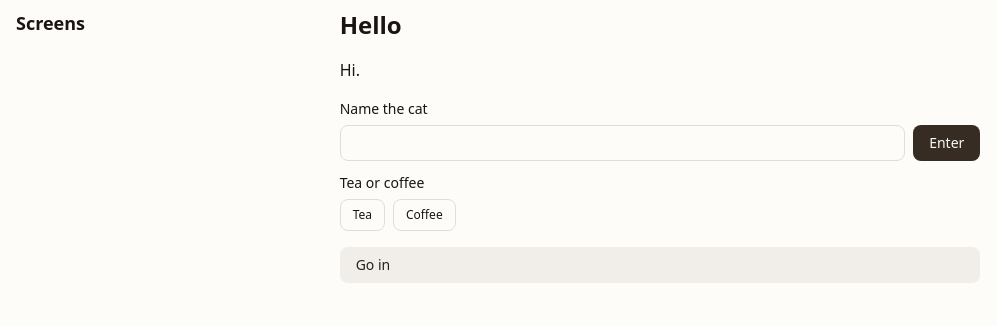
the React UI’s screens › takes typed and picked input, and shows the refusal for a bad one
Later steps or results of the test are not shown.
Type "Sir Biscuit" into the field labelled "Name the cat".
click(622, 143); type("Sir Biscuit")  # box [340,125,905,161]
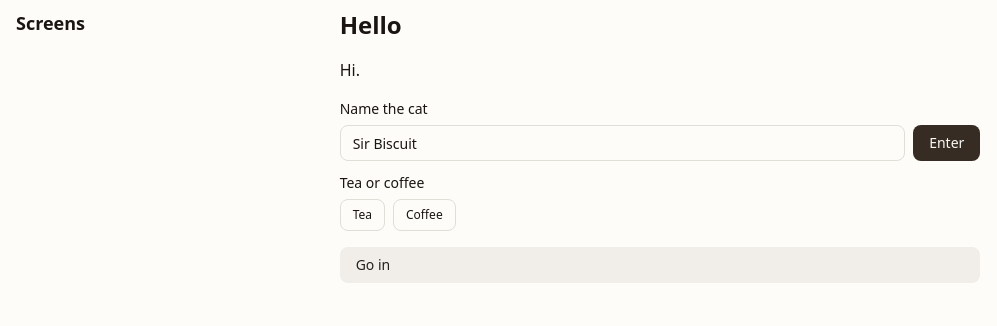
Click the button "Enter".
click(947, 143)  # box [913,125,980,161]
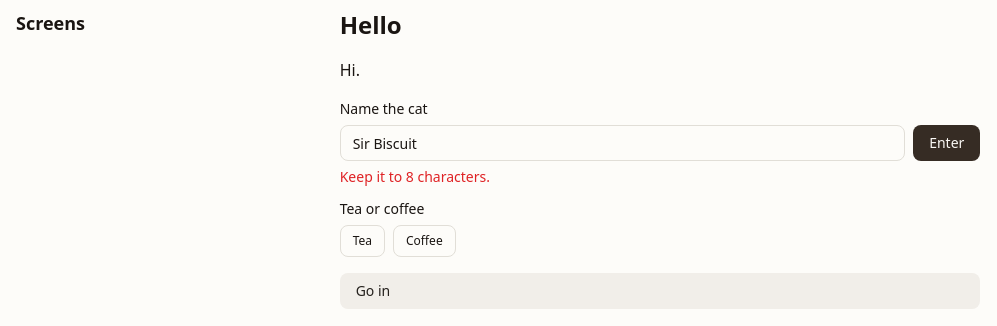
Expected: the text "Keep it to 8 characters." is shown, [340,167,490,186]
